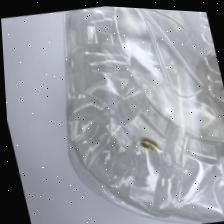plastic: (63, 5, 224, 221)
